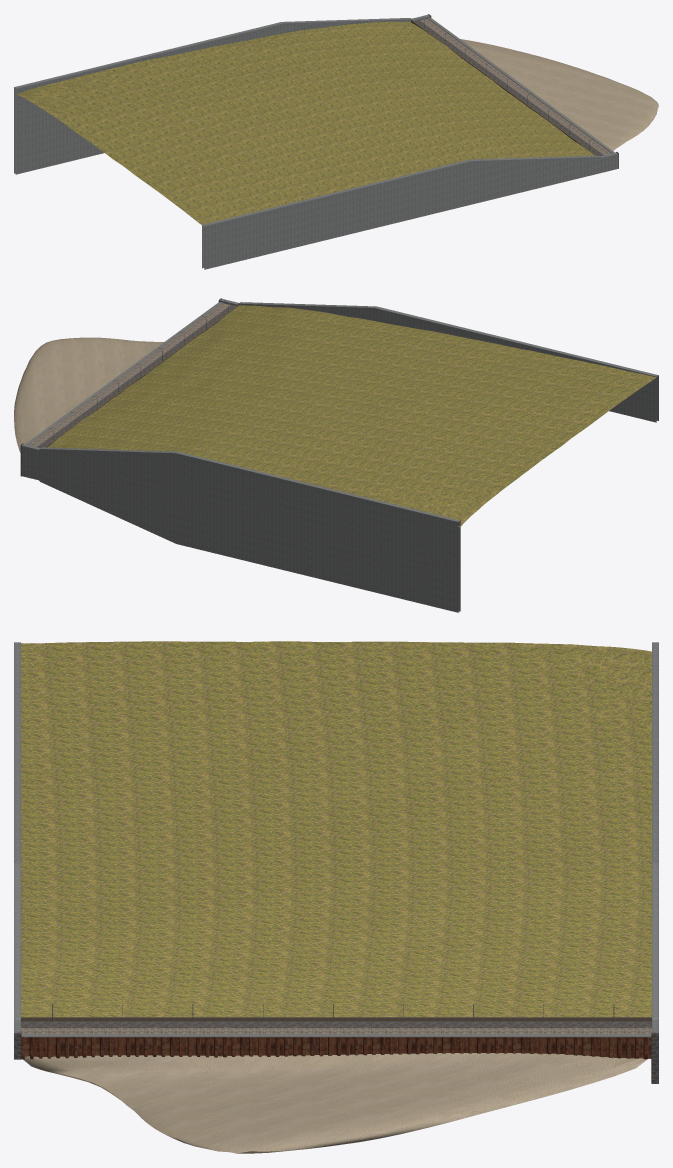
File: pier.obj
3 renders of one model, top to bottom at view 1: azimuth 30°, elevation 25°; view 2: azimuth 150°, elevation 25°; view 3: azimuth 270°, elevation 25°, orthographic. The views are drawn at different scales.
Visible parts, largest first — view 1: rock.001, Cube.001, rock, Cube.002, Cube.008; view 2: rock.001, Cube.002, rock, Cube.001, Cube.008; view 3: rock.001, rock, Cube.008, Cube.002, Cube.001.
Part boxes in pixels (x1,y1,x2,y2): rock.001: (15, 21, 594, 225); Cube.001: (202, 152, 618, 269); rock: (460, 39, 658, 150); Cube.002: (14, 14, 431, 174); Cube.008: (411, 17, 614, 156); rock.001: (47, 305, 656, 526); Cube.002: (20, 443, 460, 612); rock: (14, 337, 163, 452); Cube.001: (218, 298, 658, 422); Cube.008: (25, 300, 239, 447); rock.001: (21, 641, 651, 1017); rock: (23, 1053, 647, 1153); Cube.008: (21, 1003, 651, 1059); Cube.002: (651, 642, 658, 1083); Cube.001: (14, 642, 21, 1059).
Size of the model in its own units: 289 by 46.3 by 184.
Materials: 10 (9 with a texture image).
